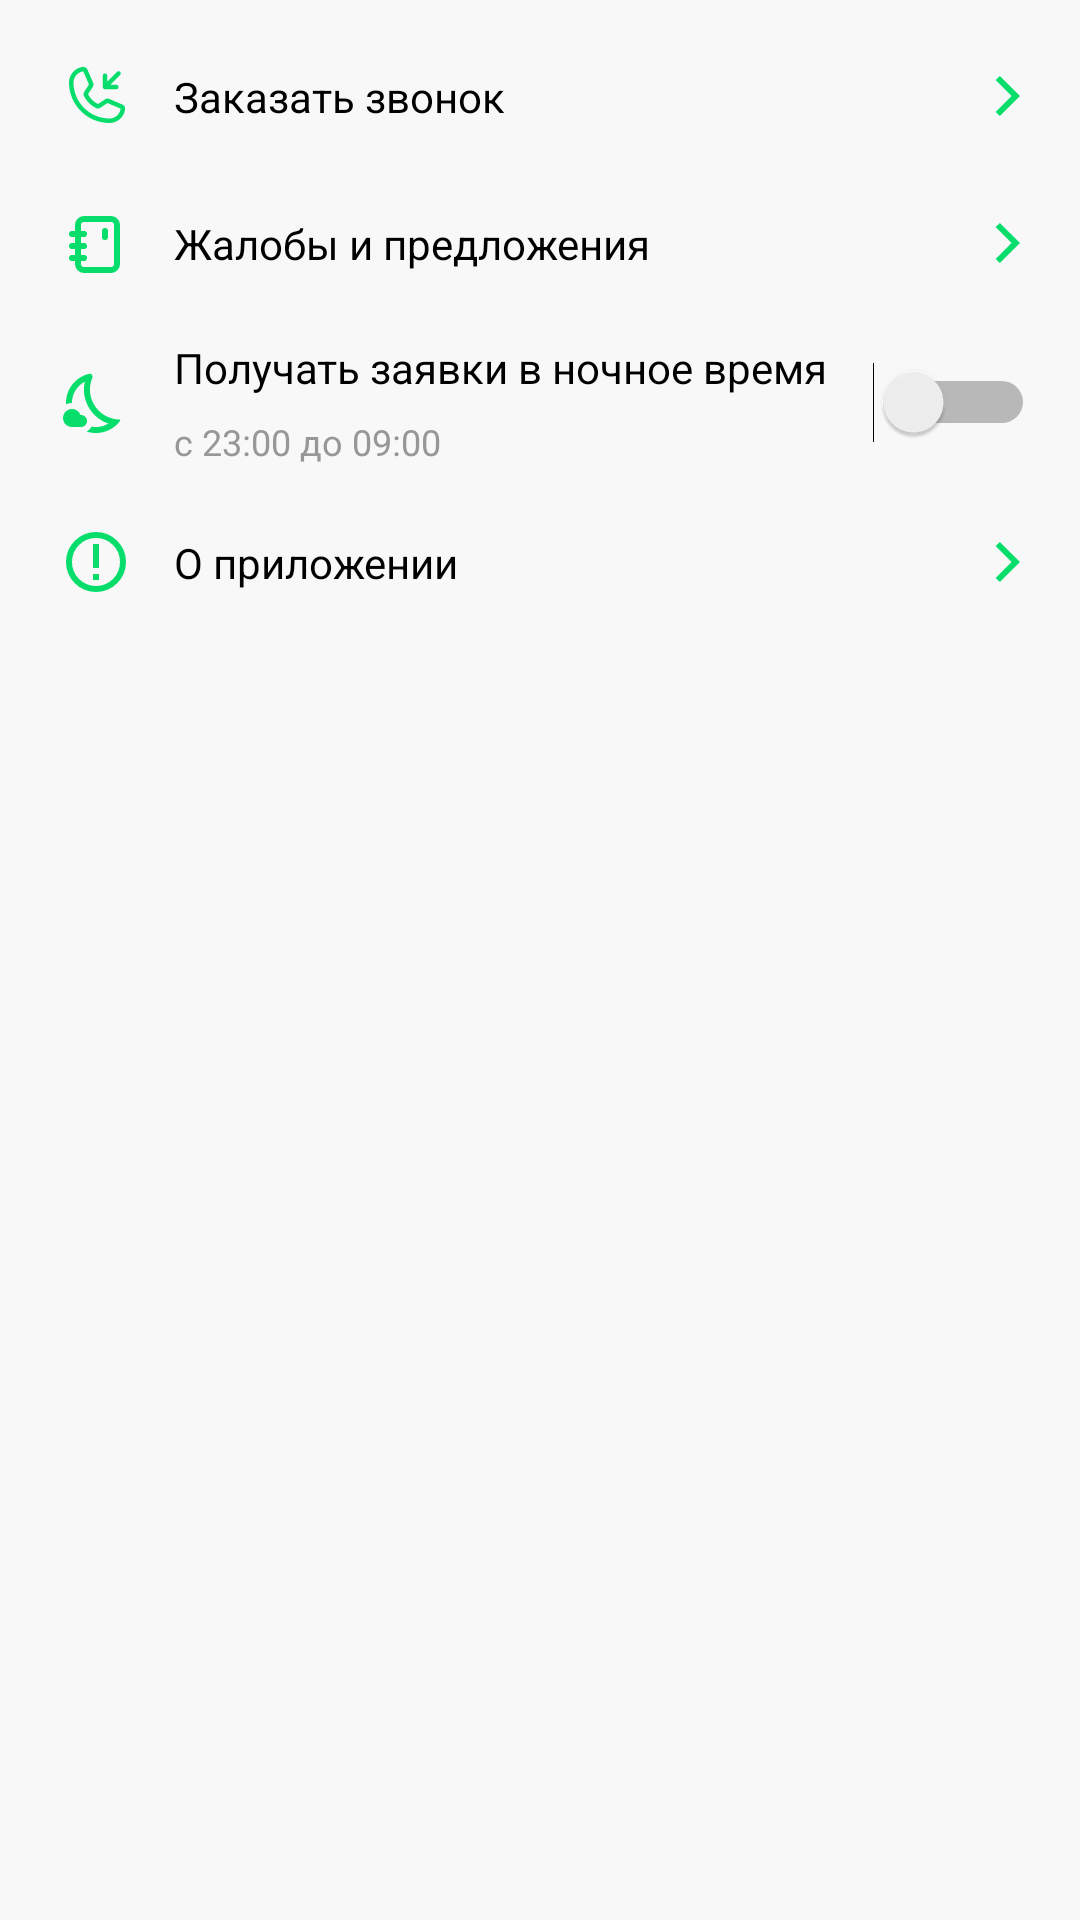

Where to tap for icons on this 1080px x 1920px app screen, as (x=x, y=y):
alert: (x=96, y=562)
arrow right: (x=1008, y=96), (x=1008, y=243), (x=1008, y=562)
night: (x=92, y=403)
notebook: (x=94, y=244)
request call: (x=97, y=94)
